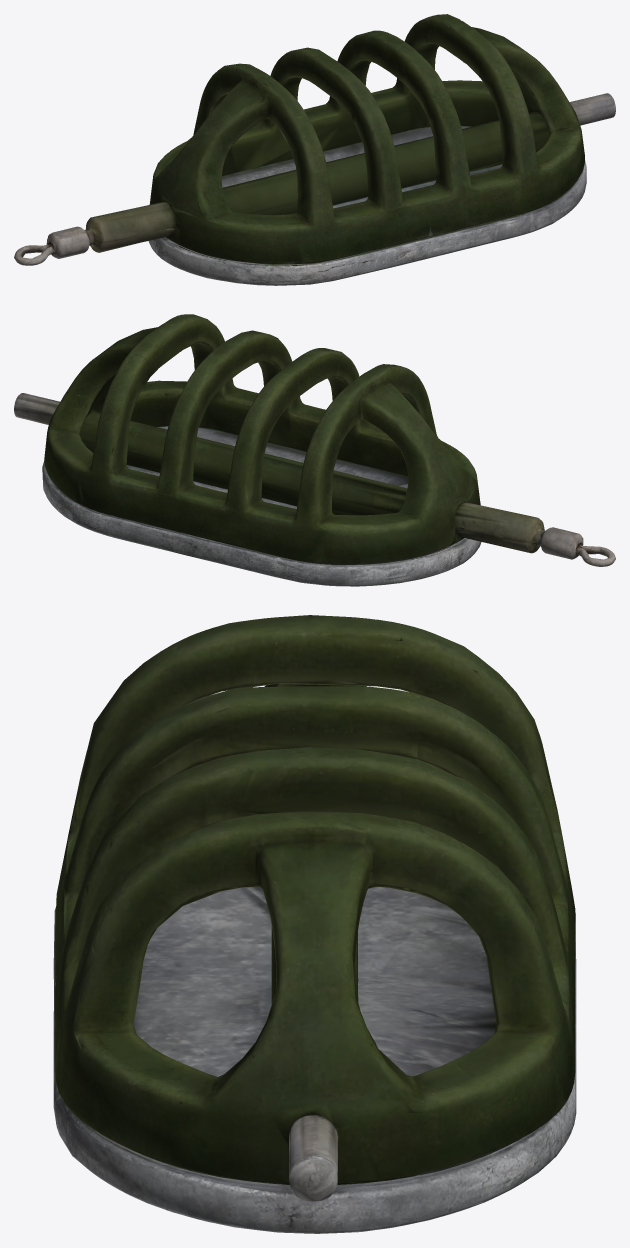
The model's file is feeder_method.glb.
3 views of the same model, one above another, from view 1: azimuth 30°, elevation 25°; view 2: azimuth 150°, elevation 25°; view 3: azimuth 270°, elevation 25° (orthographic). The views are drawn at different scales.
Visible parts, largest first — view 1: Mesh_0; view 2: Mesh_0; view 3: Mesh_0.
Boxes of the visible parts, x1,y1,x2,y2 form: Mesh_0: (14, 14, 615, 285); Mesh_0: (14, 314, 615, 586); Mesh_0: (53, 615, 576, 1233).
Bounding box in the file's own units: 1.9 × 0.4915 × 0.727.
Materials: 1 (1 with a texture image).
